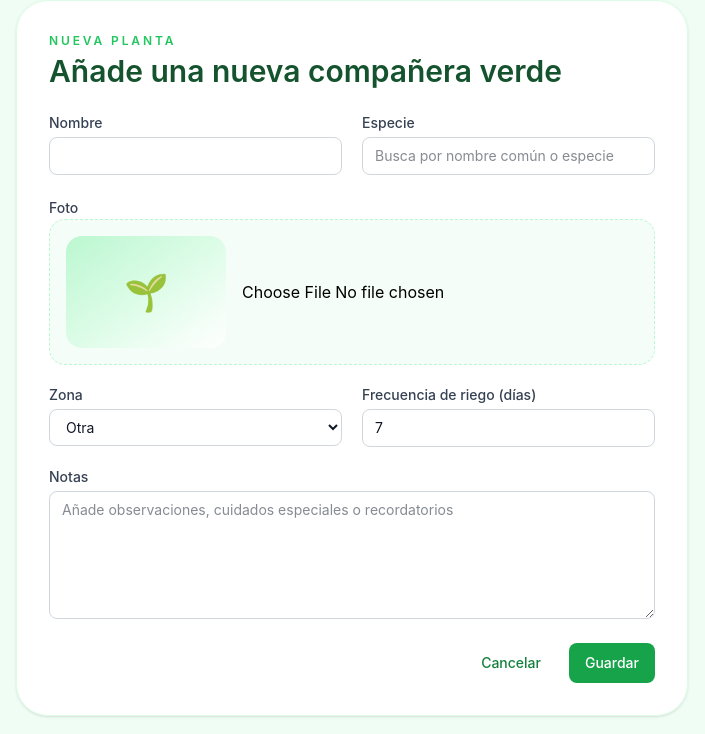
PlantForm › shows autocomplete suggestions and fills watering frequency
Type "lava" into the field labelled "Especie".
click(508, 156); type("lava")  # box [362,137,655,175]
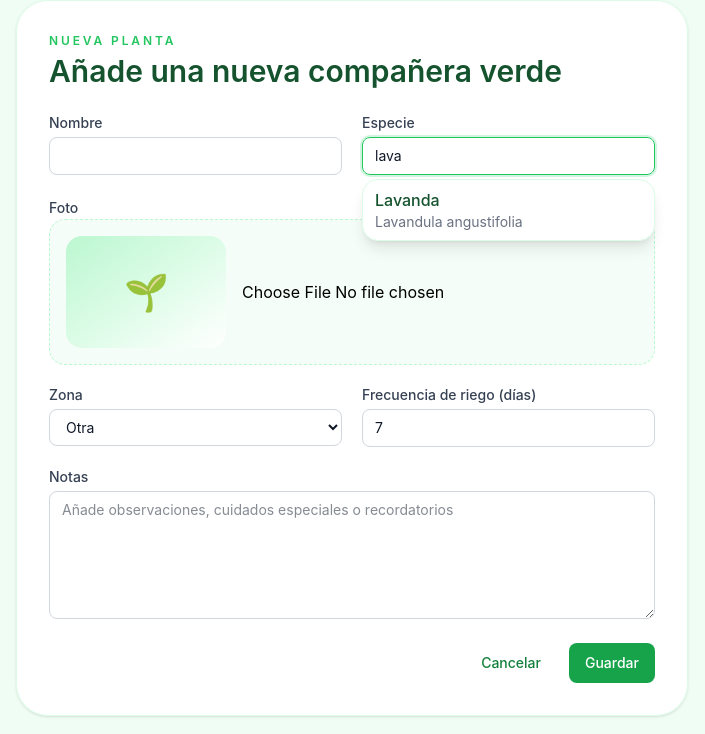
Click the button "Lavanda Lavandula angustifolia".
click(508, 210)  # box [363,180,654,240]
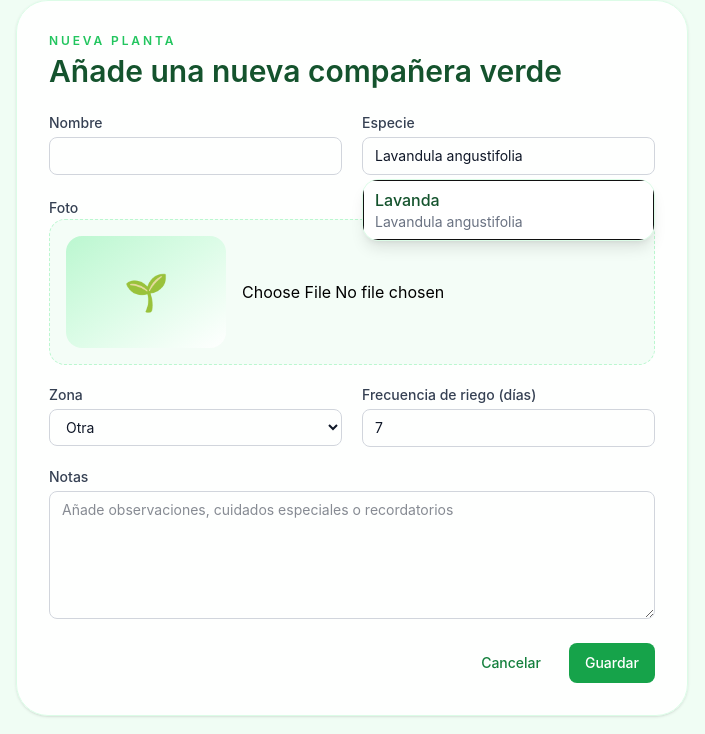
Expected: the number field showing "7" is shown, [362,409,655,447]
Expected: the field showing "Lavandula angustifolia" is shown, [362,137,655,175]
